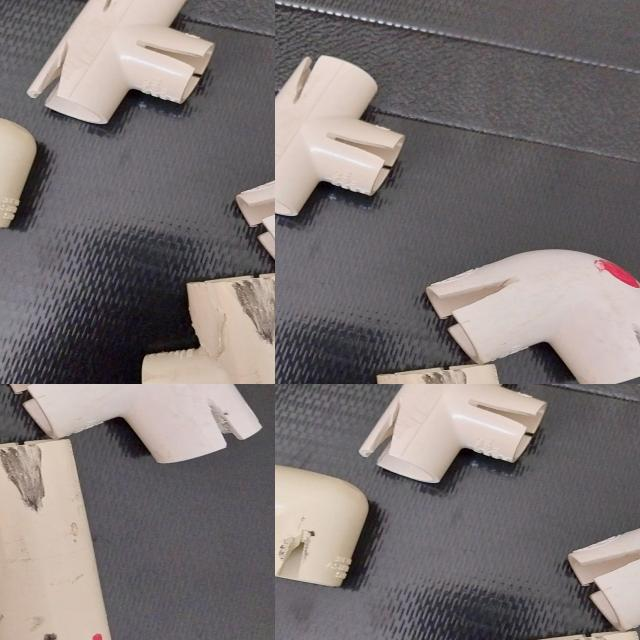Defective: (533, 546, 640, 587), (371, 409, 416, 468), (465, 399, 538, 434), (279, 523, 314, 583)
L Joint: (275, 474, 382, 585), (569, 516, 640, 640)
T Joint: (361, 384, 550, 485)
